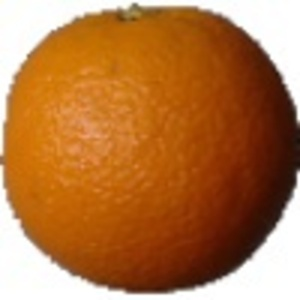laranja: (3, 3, 297, 292)
